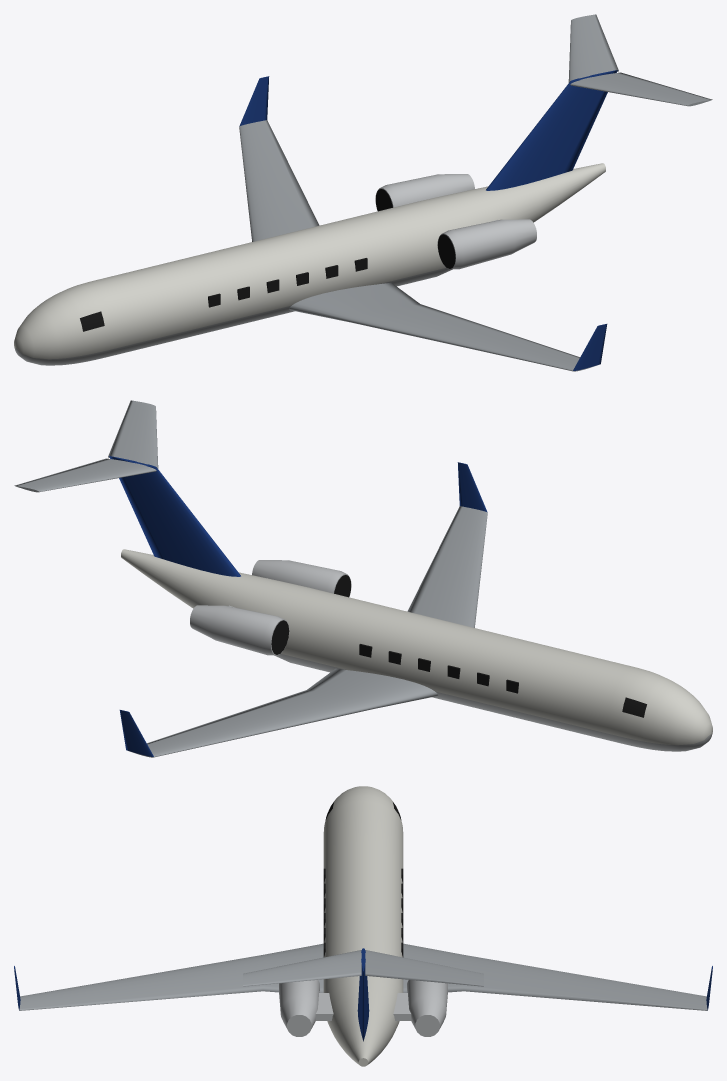
3 renders of one model, top to bottom at view 1: azimuth 30°, elevation 25°; view 2: azimuth 150°, elevation 25°; view 3: azimuth 270°, elevation 25°, orthographic. The views are drawn at different scales.
Visible parts, largest first — view 1: cl35; view 2: cl35; view 3: cl35.
Boxes of the visible parts, bbox=[...] form: cl35: bbox=[14, 14, 712, 371]; cl35: bbox=[14, 400, 712, 757]; cl35: bbox=[14, 786, 712, 1066].
Bounding box in the file's own units: 22.73 × 5.54 × 20.89.
